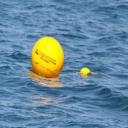yellow: (32, 36, 64, 78), (80, 68, 91, 76)
